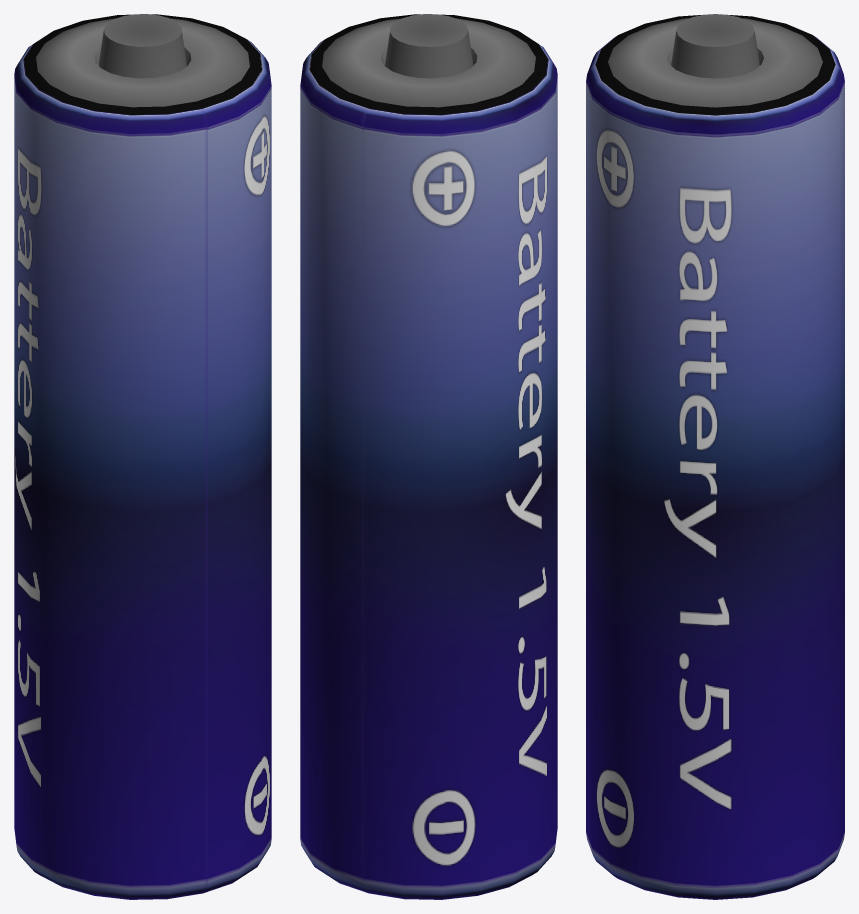
Rendered from battery_-_batarya.glb.
3 renders of one model, left to right at view 1: azimuth 30°, elevation 25°; view 2: azimuth 150°, elevation 25°; view 3: azimuth 270°, elevation 25°, orthographic.
Visible parts, largest first — view 1: Cylinder001; view 2: Cylinder001; view 3: Cylinder001.
Boxes of the visible parts, x1=… form: Cylinder001: x1=14, y1=14, x2=271, y2=899; Cylinder001: x1=300, y1=14, x2=557, y2=899; Cylinder001: x1=586, y1=14, x2=844, y2=899.
Bounding box in the file's own units: 11.39 × 40.18 × 11.39.
1 material, 1 textured.
